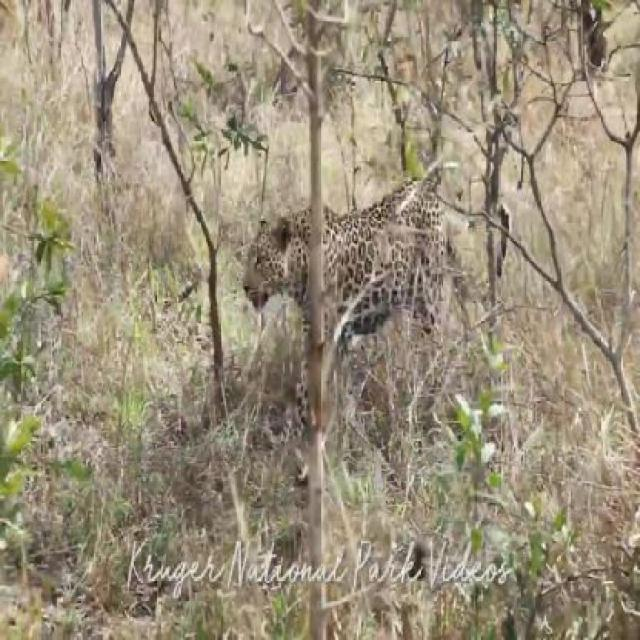Leopard: (230, 156, 525, 430)
